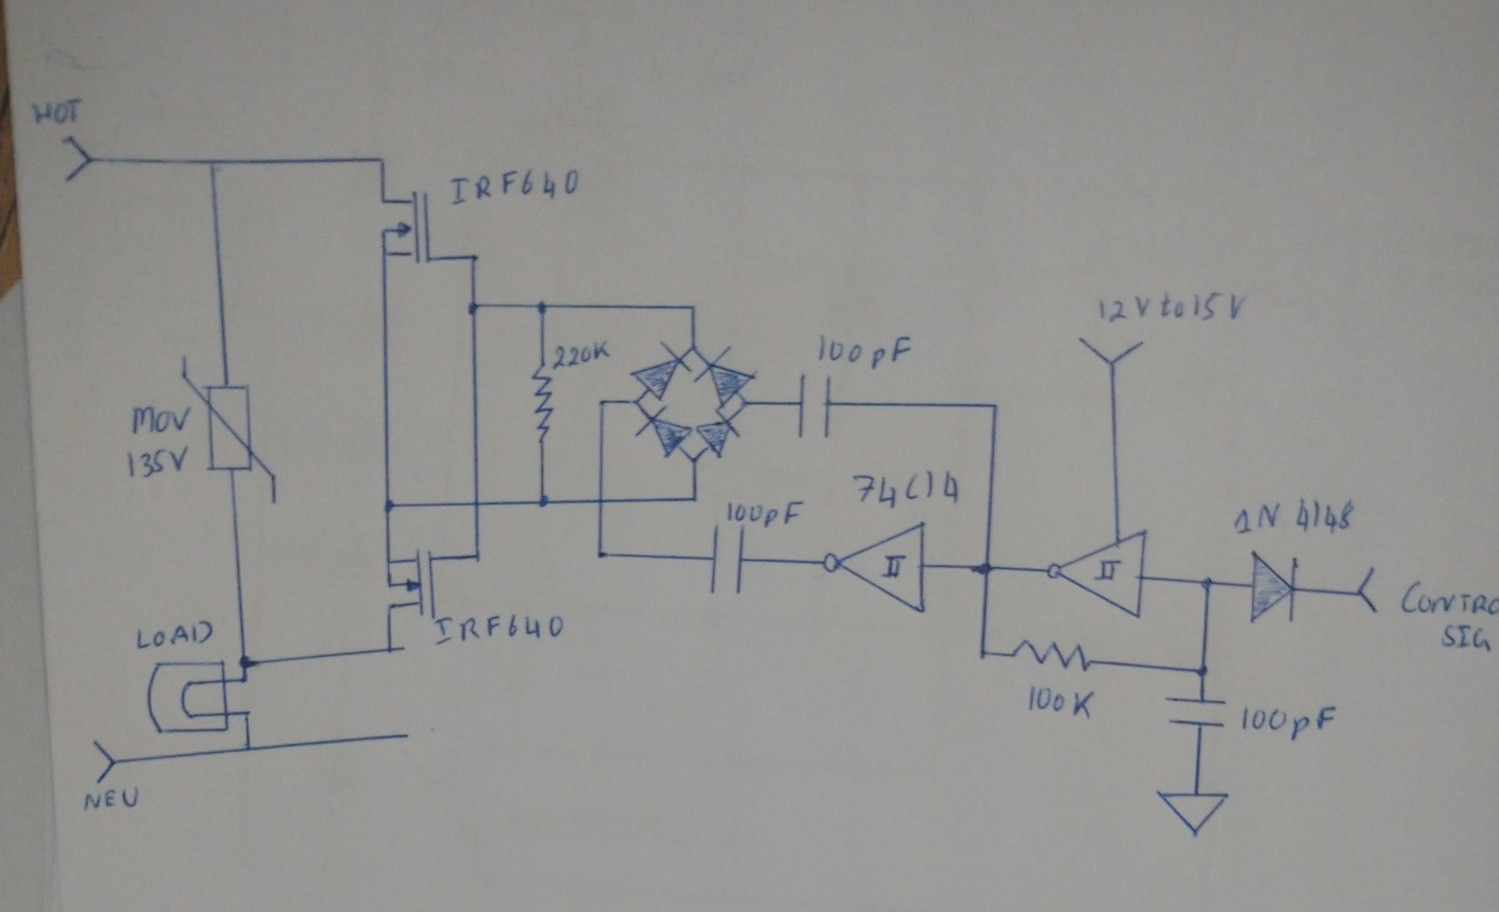capacitor.unpolarized: (700, 523, 756, 595), (790, 373, 841, 442), (1161, 691, 1229, 731)
crossover: (589, 491, 609, 511), (468, 495, 485, 512)
diode: (1245, 549, 1301, 626), (630, 341, 691, 400), (694, 347, 753, 404), (636, 406, 692, 458), (696, 410, 740, 458)
gnd: (1155, 788, 1231, 838)
junction: (970, 556, 996, 578), (1195, 572, 1218, 593), (983, 397, 1006, 416), (529, 298, 552, 316), (380, 495, 399, 516), (1191, 662, 1213, 680), (234, 652, 257, 670), (534, 492, 554, 511), (467, 548, 485, 566), (975, 644, 993, 664), (203, 154, 221, 171), (464, 299, 481, 315), (383, 641, 399, 658), (682, 340, 700, 355), (372, 152, 390, 167), (241, 738, 256, 756), (463, 250, 481, 265), (685, 453, 705, 467), (686, 490, 703, 505), (594, 545, 608, 563), (240, 703, 254, 721), (593, 396, 607, 412), (737, 399, 753, 412), (685, 301, 699, 315), (238, 673, 252, 687), (631, 394, 643, 407), (402, 729, 414, 742)
lamp: (143, 659, 231, 735)
resistor: (1008, 637, 1097, 675), (530, 360, 554, 444)
schmitt_trigger: (1044, 528, 1156, 621), (822, 520, 928, 615)
terminal: (1076, 334, 1144, 366), (61, 133, 91, 184), (1356, 565, 1384, 617), (90, 738, 119, 786)
text: (445, 166, 585, 207), (1095, 289, 1248, 324), (1233, 497, 1354, 538), (850, 469, 962, 510), (1239, 703, 1339, 743), (1398, 579, 1499, 619), (433, 614, 564, 644), (816, 332, 911, 371), (1026, 679, 1097, 724), (134, 617, 218, 650), (725, 498, 804, 530), (124, 446, 191, 478), (128, 404, 191, 434), (1436, 622, 1493, 654), (28, 95, 84, 127), (552, 340, 611, 368), (82, 786, 140, 814)
transistor: (376, 189, 435, 267), (382, 546, 438, 619)
varistor: (179, 352, 281, 505)
